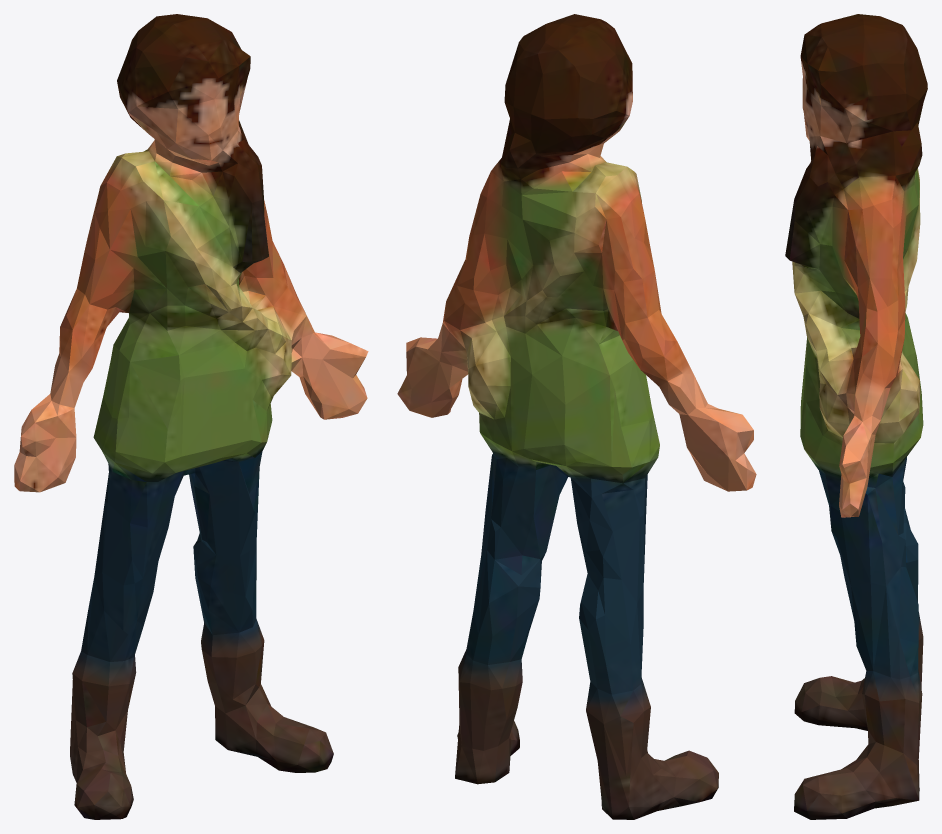
The model's file is habitant-loin.glb.
3 renders of one model, left to right at view 1: azimuth 30°, elevation 25°; view 2: azimuth 150°, elevation 25°; view 3: azimuth 270°, elevation 25°, orthographic. The views are drawn at different scales.
Parts seen in each view (by area): view 1: habitant; view 2: habitant; view 3: habitant.
Boxes of the visible parts, left/top/right/bottom form: habitant: left=14, top=14, right=368, bottom=819; habitant: left=397, top=14, right=756, bottom=819; habitant: left=785, top=14, right=927, bottom=819.
Bounding box in the file's own units: 0.4897 × 1.01 × 0.1758.
1 material, 1 textured.
